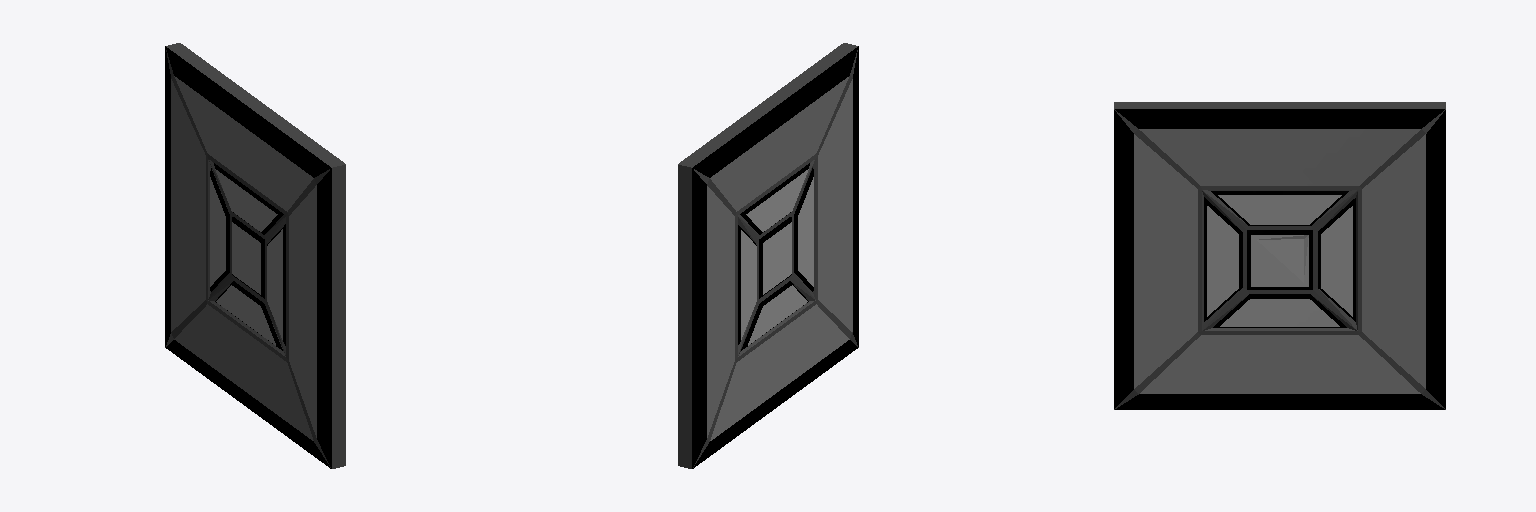
3 renders of one model, left to right at view 1: azimuth 30°, elevation 25°; view 2: azimuth 150°, elevation 25°; view 3: azimuth 270°, elevation 25°, orthographic.
Visible parts, largest first — view 1: 立方体; view 2: 立方体; view 3: 立方体.
Boxes of the visible parts, x1=… form: 立方体: x1=165, y1=43, x2=345, y2=468; 立方体: x1=678, y1=43, x2=858, y2=468; 立方体: x1=1114, y1=102, x2=1445, y2=409.
Size of the model in its own units: 0.1648 by 2 by 2.
Materials: 1 (1 with a texture image).